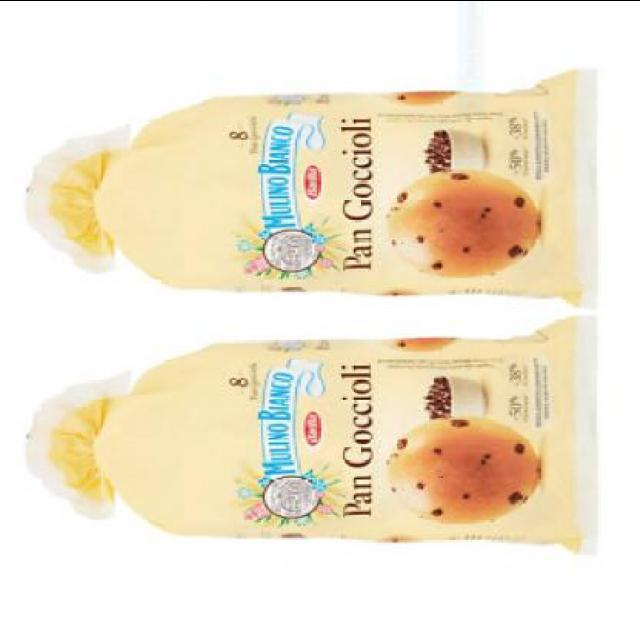Merendine: (23, 62, 592, 304), (24, 312, 582, 556)
Merendine packaged: (382, 414, 544, 524), (380, 168, 542, 278)
